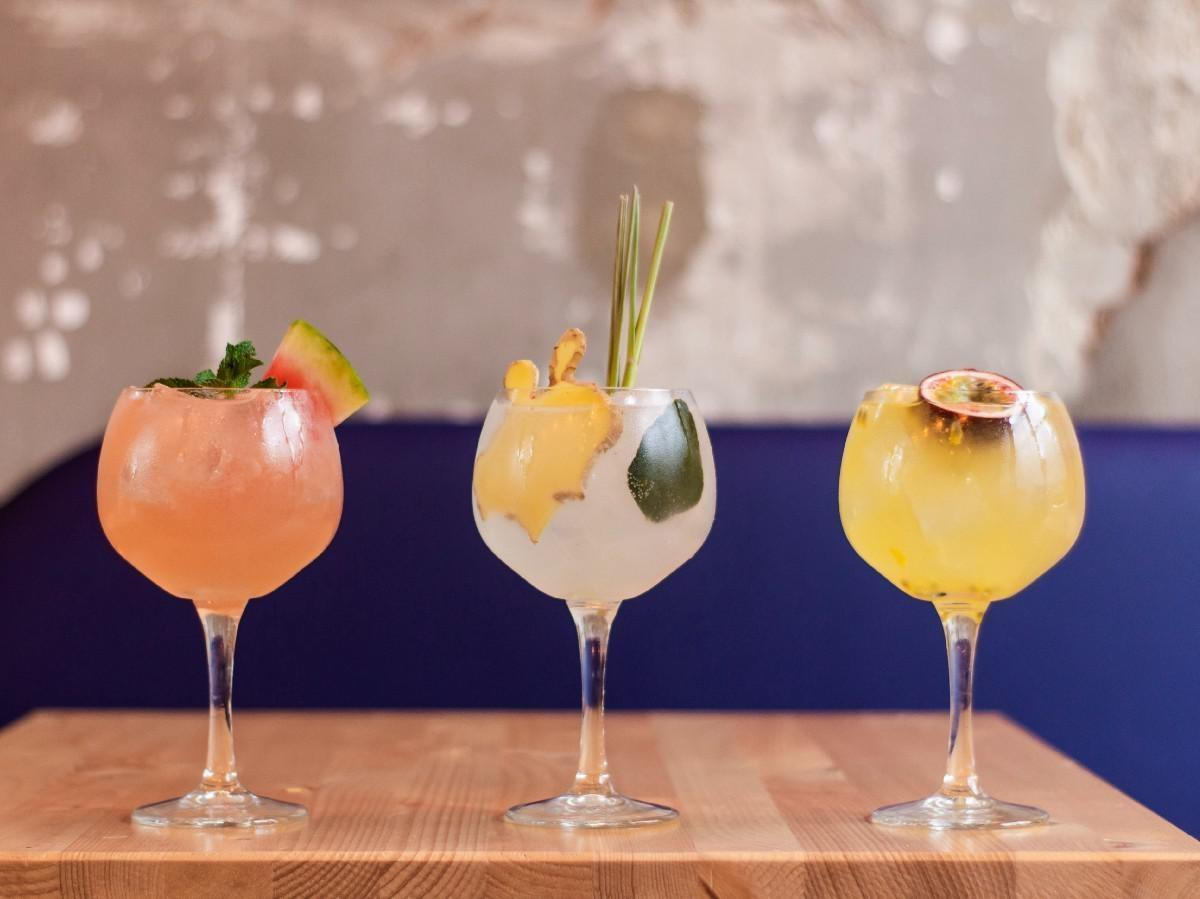glass-wine: (837, 367, 1089, 830), (95, 375, 346, 833), (470, 379, 719, 828)
